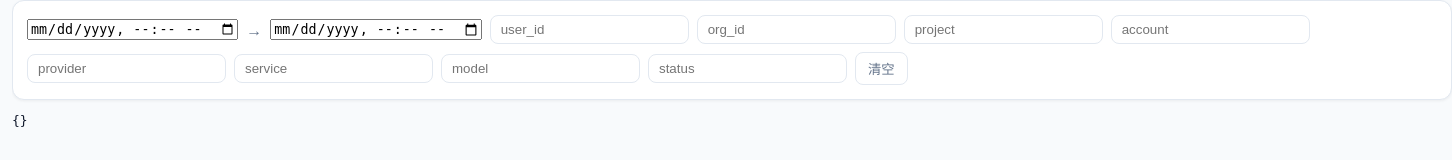
Test: typing a user_id updates filter state
The image size is (1452, 160).
Type "teacher-1" into the field with placeholder "user_id" at point(589, 30), box [490, 15, 689, 44]
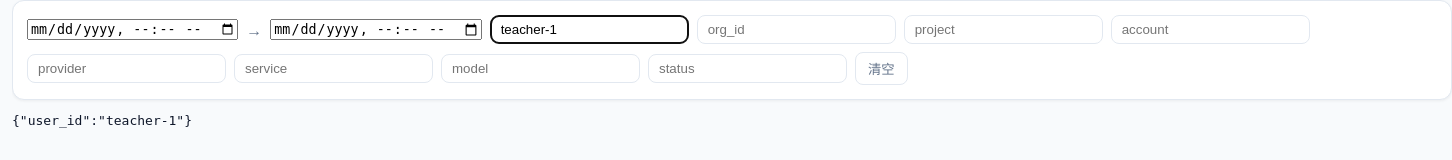
Expected: the text with test id "state" shows "\"user_id\":\"teacher-1\"", [12, 113, 192, 128]
